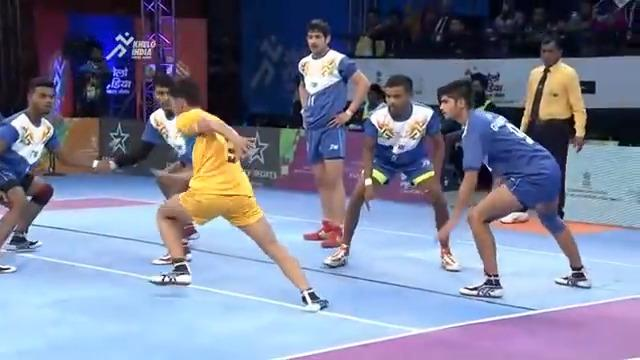Player: (435, 78, 592, 298), (321, 72, 462, 273), (1, 57, 97, 284), (292, 17, 371, 247)
Raider: (147, 73, 330, 313)
referee: (498, 37, 587, 224)
